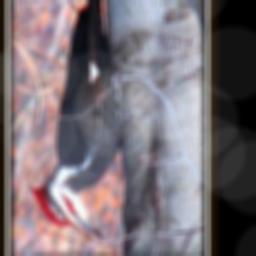Woodpecker: (29, 0, 135, 240)
